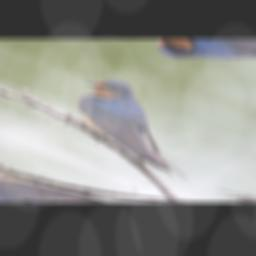Swallow: (27, 71, 256, 182)
